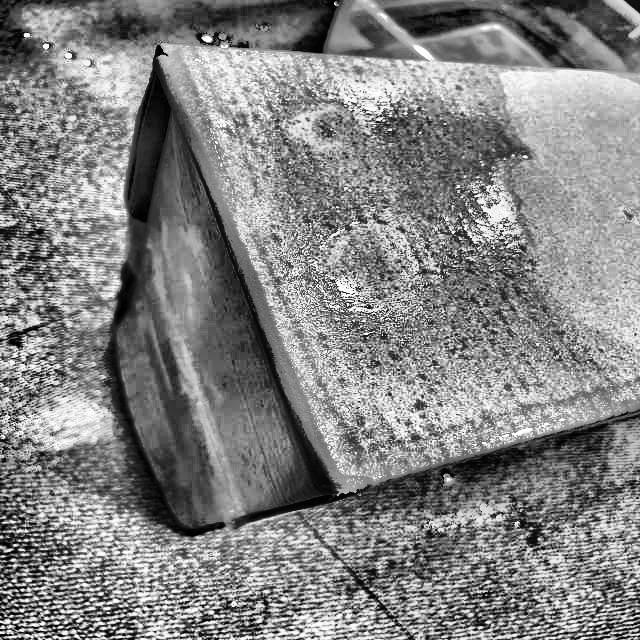box: (109, 41, 639, 538)
wet: (126, 67, 606, 501)
